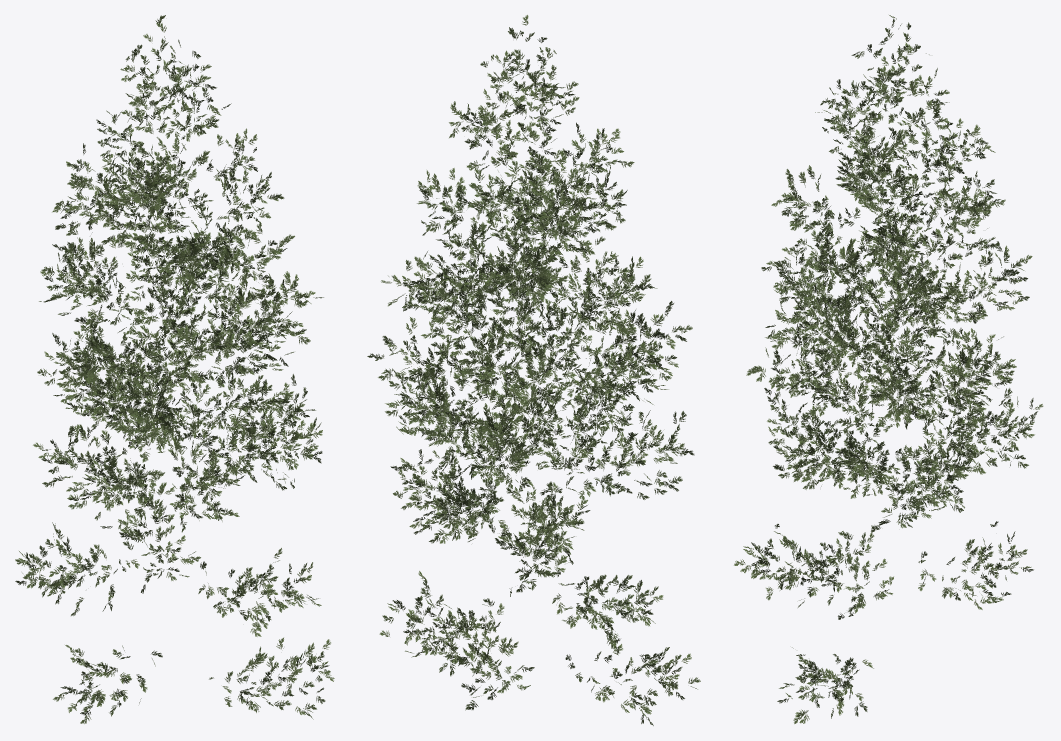
The model's file is MESH_CL04_CalocedrusDecurrens_A_LOD2.fbx.
3 renders of one model, left to right at view 1: azimuth 30°, elevation 25°; view 2: azimuth 150°, elevation 25°; view 3: azimuth 270°, elevation 25°, orthographic. The views are drawn at different scales.
Visible parts, largest first — view 1: MI_LOD2_001; view 2: MI_LOD2_001; view 3: MI_LOD2_001.
Part boxes in pixels (x1,y1,x2,y2): MI_LOD2_001: [15, 15, 334, 723]; MI_LOD2_001: [367, 15, 700, 725]; MI_LOD2_001: [734, 15, 1043, 723].
Size of what is drawn, in the model's own units: 1201 by 2929 by 1241.
